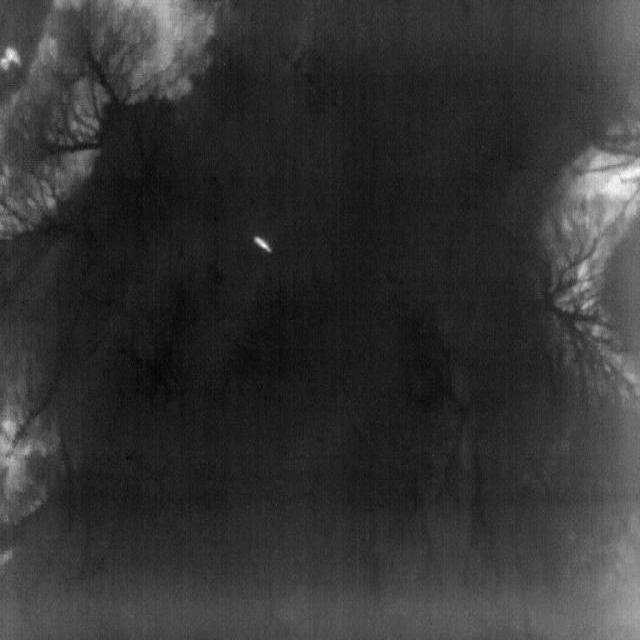deer: (5, 46, 23, 66), (253, 236, 272, 252), (0, 57, 10, 72)
